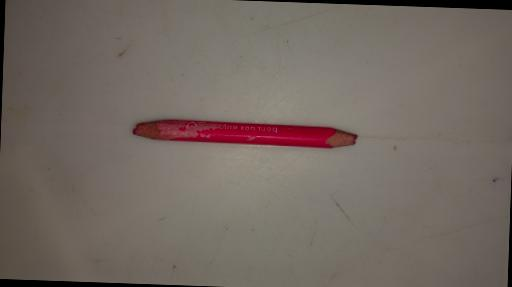Pencil: (131, 118, 357, 149)
